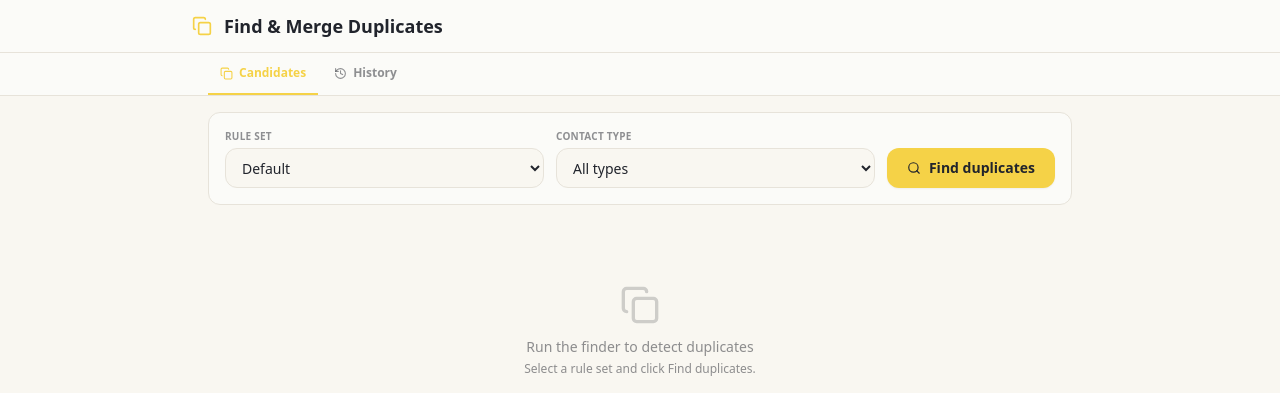
Test case: DuplicatesPage › shows same-name chip when same_name is true
Click the button "Find duplicates" at (971, 168), box [887,148,1055,188]
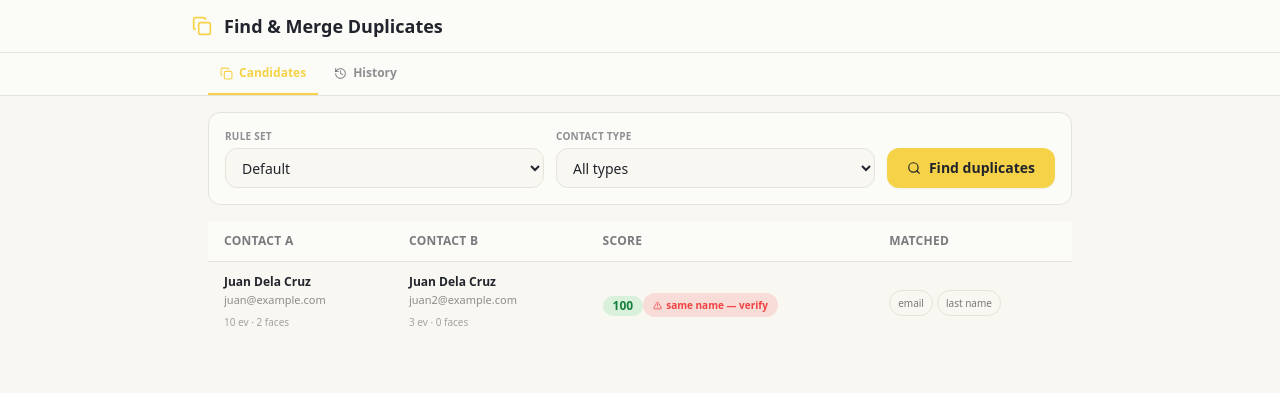
Check: the text "same name — verify" is shown, box [643,293,778,317]
